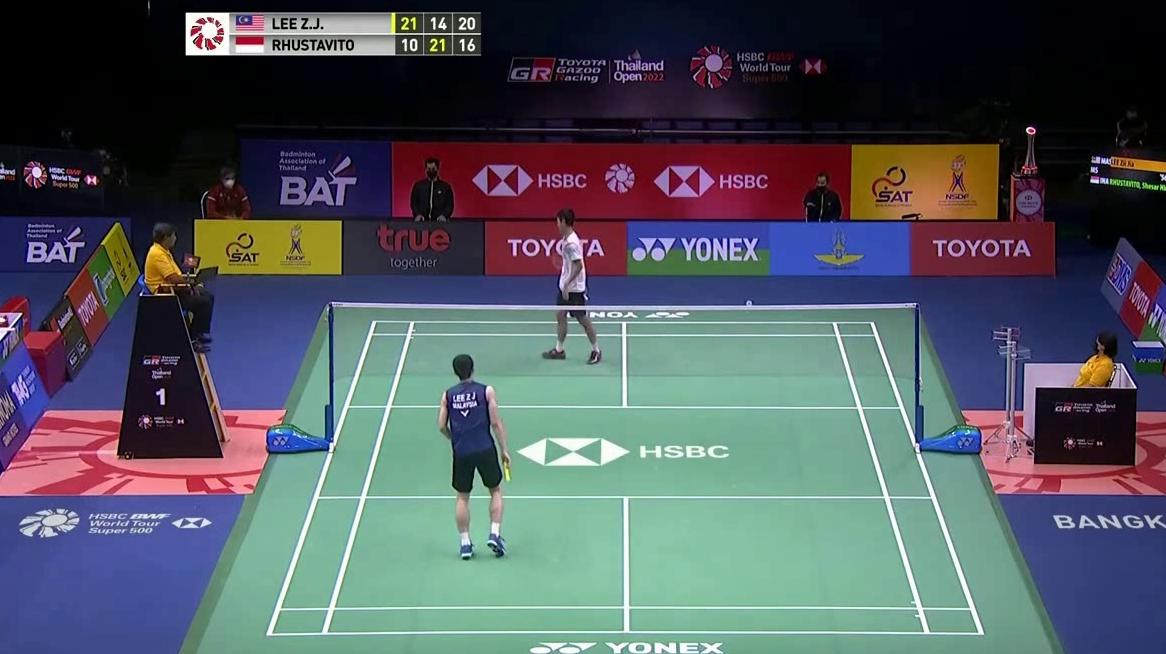racket: (499, 456, 514, 485), (549, 248, 565, 272)
shuttle: (746, 300, 753, 307)
